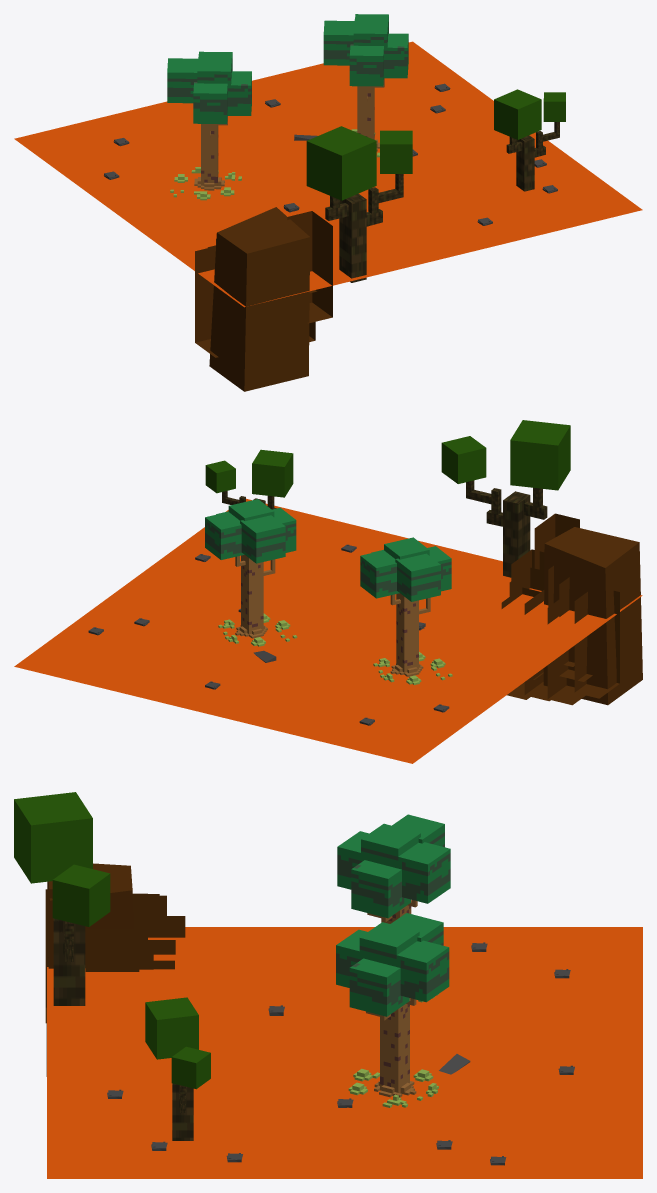
File: bottom_center.gltf
3 views of the same model, one above another, from view 1: azimuth 30°, elevation 25°; view 2: azimuth 150°, elevation 25°; view 3: azimuth 270°, elevation 25° (orthographic). The views are drawn at different scales.
Parts seen in each view (by area): view 1: BC, Mountain.011, Cube.033, TREE 02.005, TREE 02.003, Cube.017; view 2: BC, Mountain.011, Cube.033, TREE 02.005, TREE 02.003, Cube.017; view 3: BC, TREE 02.003, Cube.033, TREE 02.005, Mountain.011, Cube.017.
Part boxes in pixels (<box>): BC: <box>14,41,642,307</box>; Mountain.011: <box>195,207,332,391</box>; Cube.033: <box>306,126,412,282</box>; TREE 02.005: <box>167,51,251,200</box>; TREE 02.003: <box>323,14,408,157</box>; Cube.017: <box>494,89,565,191</box>; BC: <box>14,498,642,763</box>; Mountain.011: <box>501,513,642,705</box>; Cube.033: <box>441,420,570,577</box>; TREE 02.005: <box>360,537,452,685</box>; TREE 02.003: <box>205,499,297,646</box>; Cube.017: <box>205,449,293,509</box>; BC: <box>47,927,642,1178</box>; TREE 02.003: <box>336,913,449,1107</box>; Cube.033: <box>14,792,110,1005</box>; TREE 02.005: <box>337,814,450,1002</box>; Mountain.011: <box>45,863,185,1076</box>; Cube.017: <box>145,997,210,1140</box>.
Size of the model in its own units: 222 by 119 by 233.
Materials: 8 (2 with a texture image).
